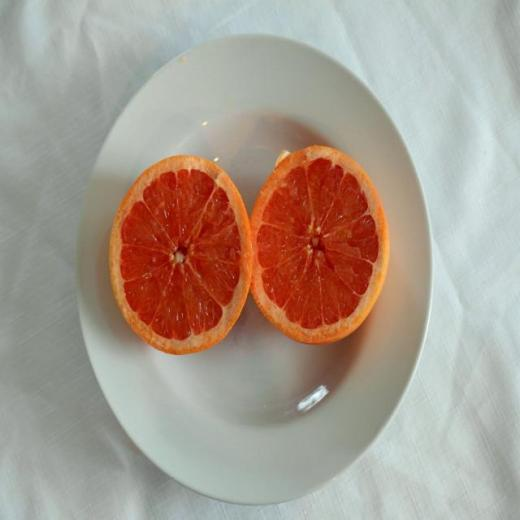Grape: (109, 155, 253, 355), (250, 143, 390, 344)
